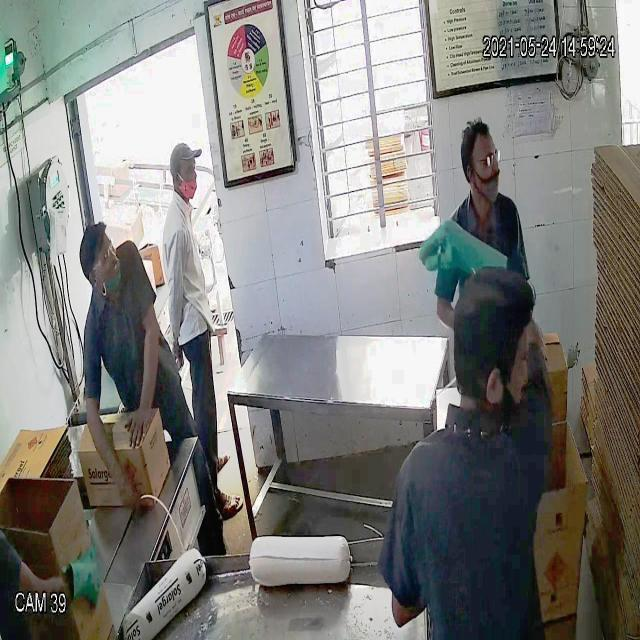glasses: (84, 238, 114, 282), (460, 148, 503, 174)
